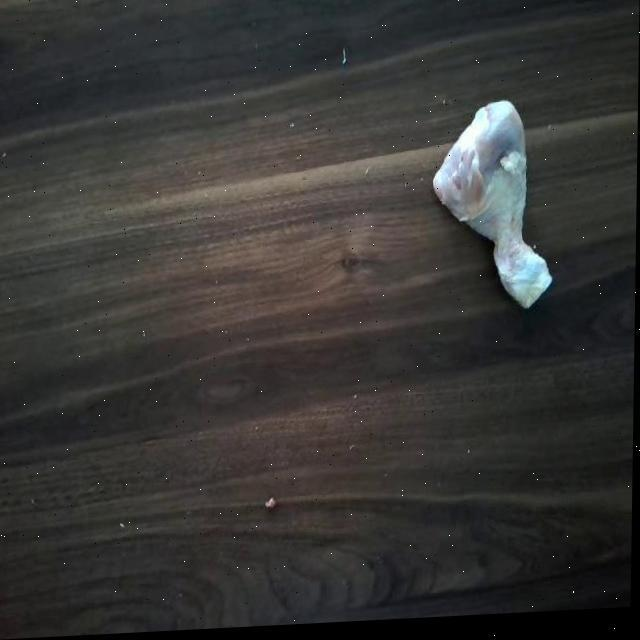leg: (425, 104, 558, 318)
